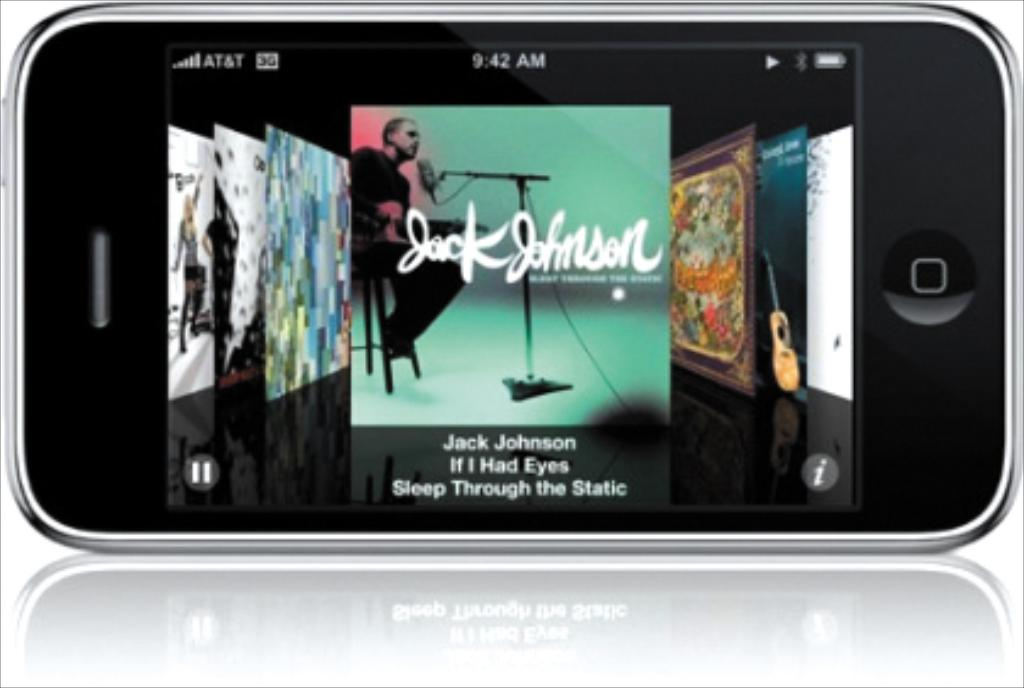mobile phone: (2, 0, 1021, 558)
